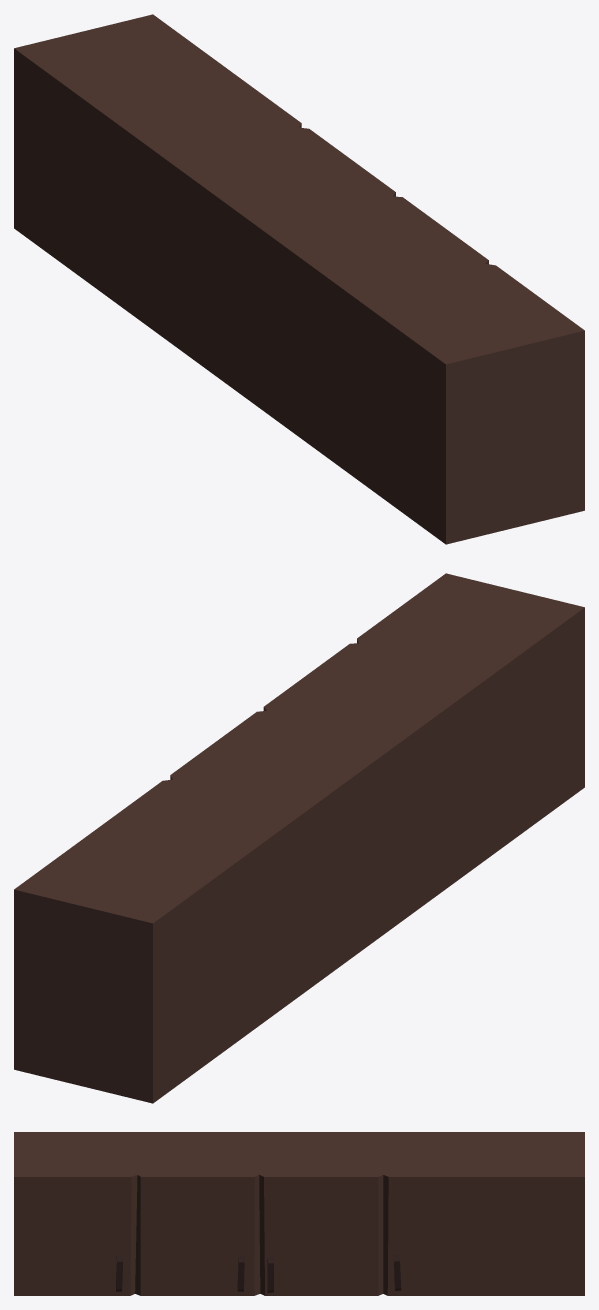
The model's file is Cabinets_01.fbx.
The picture shows the model from 3 angles, top to bottom: view 1: azimuth 30°, elevation 25°; view 2: azimuth 150°, elevation 25°; view 3: azimuth 270°, elevation 25°; orthographic projection. The views are drawn at different scales.
Parts seen in each view (by area): view 1: group2142097961; view 2: group2142097961; view 3: group2142097961, group478566892, group697313308, group411587101, group194806038.
Boxes of the visible parts, x1,y1,x2,y2 form: group2142097961: [14, 14, 584, 544]; group2142097961: [14, 573, 584, 1103]; group2142097961: [14, 1132, 584, 1295]; group478566892: [237, 1255, 244, 1291]; group697313308: [267, 1256, 273, 1292]; group411587101: [116, 1254, 122, 1291]; group194806038: [393, 1254, 401, 1290].
Size of the model in its own units: 22.44 by 26 by 113.
